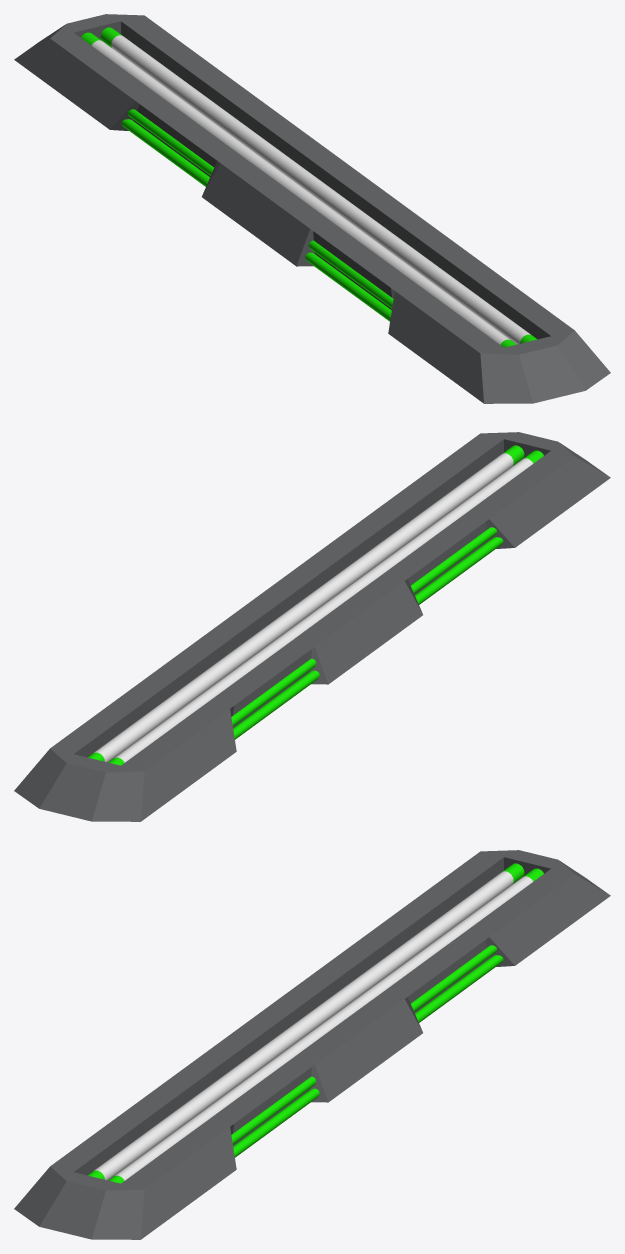
File: light-fixture.fbx
3 views of the same model, one above another, from view 1: azimuth 30°, elevation 25°; view 2: azimuth 150°, elevation 25°; view 3: azimuth 330°, elevation 25° (orthographic).
Parts seen in each view (by area): view 1: Light; view 2: Light; view 3: Light.
Boxes of the visible parts, left/top/right/bottom form: Light: left=14, top=14, right=610, bottom=403; Light: left=14, top=432, right=610, bottom=821; Light: left=14, top=850, right=610, bottom=1239.
Size of the model in its own units: 33 by 7.93 by 223.
